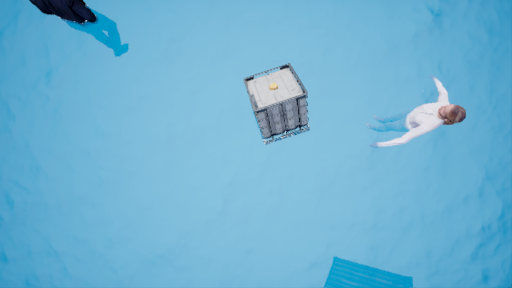person: (373, 72, 470, 157)
